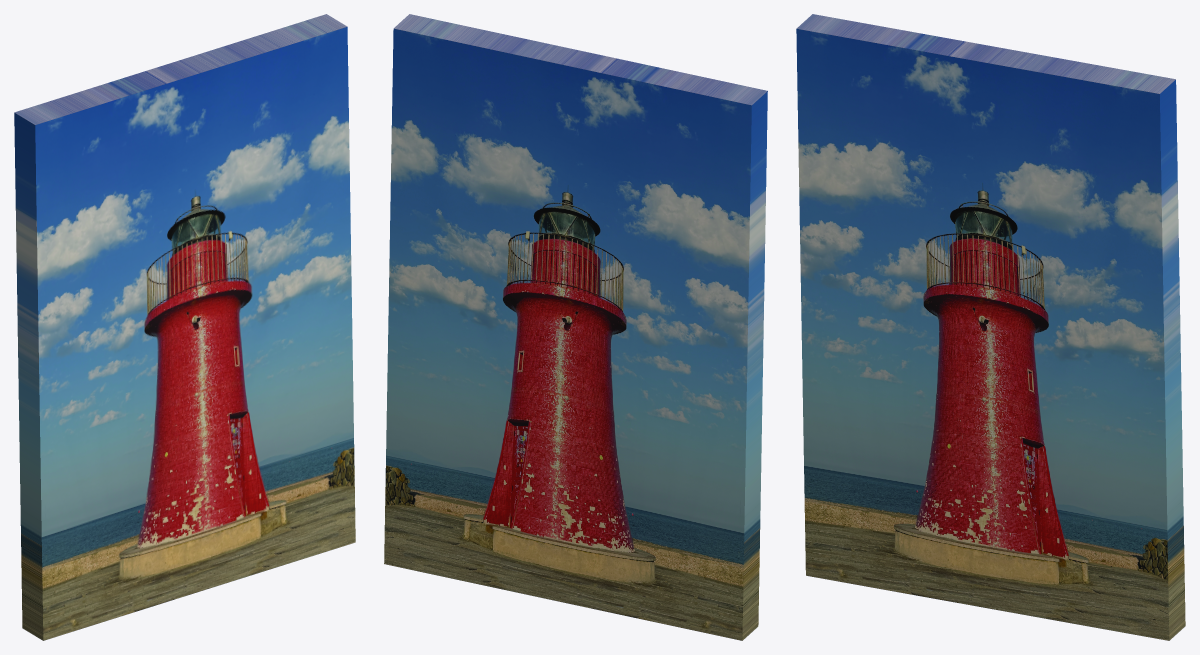
File: 2quadro-verticale-40x60.glb.glb
3 views of the same model, side by side, from view 1: azimuth 30°, elevation 25°; view 2: azimuth 150°, elevation 25°; view 3: azimuth 330°, elevation 25° (orthographic). The views are drawn at different scales.
Parts seen in each view (by area): view 1: Plane; view 2: Plane; view 3: Plane.
Part boxes in pixels (<box>): Plane: <box>14,14,355,640</box>; Plane: <box>384,14,767,640</box>; Plane: <box>796,14,1185,640</box>.
Bounding box in the file's own units: 0.8244 × 1.21 × 0.1479.
Materials: 1 (1 with a texture image).
